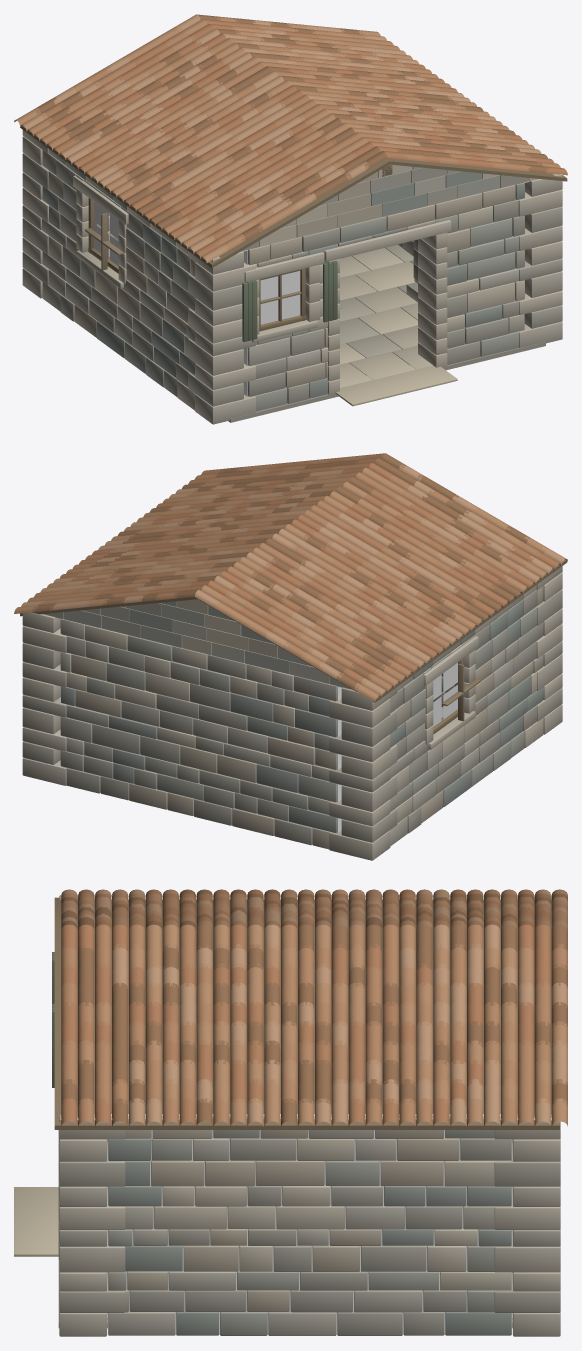
File: Maison_Finition_final.fbx
3 renders of one model, top to bottom at view 1: azimuth 30°, elevation 25°; view 2: azimuth 150°, elevation 25°; view 3: azimuth 270°, elevation 25°, orthographic. The views are drawn at different scales.
Visible parts, largest first — view 1: Maconnerie_Assises, Tuiles_Conserve, Dalles_Patine_Discrete, Bois_Assemblages, Vitres_Fenetres_Conserve; view 2: Maconnerie_Assises, Tuiles_Conserve, Bois_Assemblages, Vitres_Fenetres_Conserve; view 3: Tuiles_Conserve, Maconnerie_Assises, Bois_Assemblages, Dalles_Patine_Discrete, Joints_Chaux_Retraits.
Boxes of the visible parts, bbox=[...] form: Maconnerie_Assises: bbox=[22, 130, 562, 424]; Tuiles_Conserve: bbox=[14, 14, 567, 262]; Dalles_Patine_Discrete: bbox=[228, 244, 545, 422]; Bois_Assemblages: bbox=[20, 125, 567, 341]; Vitres_Fenetres_Conserve: bbox=[94, 202, 300, 324]; Maconnerie_Assises: bbox=[22, 566, 562, 860]; Tuiles_Conserve: bbox=[14, 453, 567, 701]; Bois_Assemblages: bbox=[20, 559, 567, 734]; Vitres_Fenetres_Conserve: bbox=[433, 662, 457, 726]; Tuiles_Conserve: bbox=[61, 889, 567, 1126]; Maconnerie_Assises: bbox=[58, 895, 560, 1336]; Bois_Assemblages: bbox=[52, 897, 559, 1272]; Dalles_Patine_Discrete: bbox=[14, 1139, 512, 1328]; Joints_Chaux_Retraits: bbox=[107, 896, 512, 1334].
Size of the model in its own units: 715 by 434 by 721.
